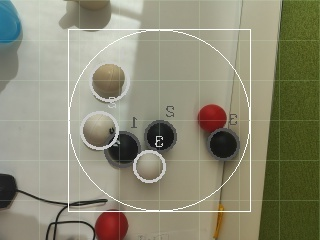Pelota blanca: (91, 61, 127, 105), (61, 0, 113, 30), (81, 109, 119, 150), (131, 149, 167, 184), (45, 219, 97, 240), (78, 0, 113, 10)
Pelota negra: (0, 0, 23, 90), (144, 119, 179, 153), (208, 127, 241, 160), (0, 171, 19, 210)
Pelota roja: (94, 211, 129, 240), (198, 103, 227, 132)
